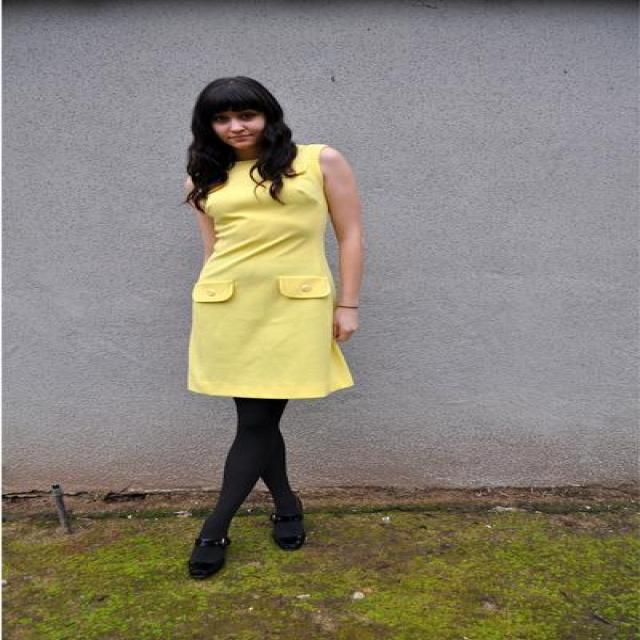dress: (187, 144, 352, 398)
shoe: (185, 499, 308, 575)
